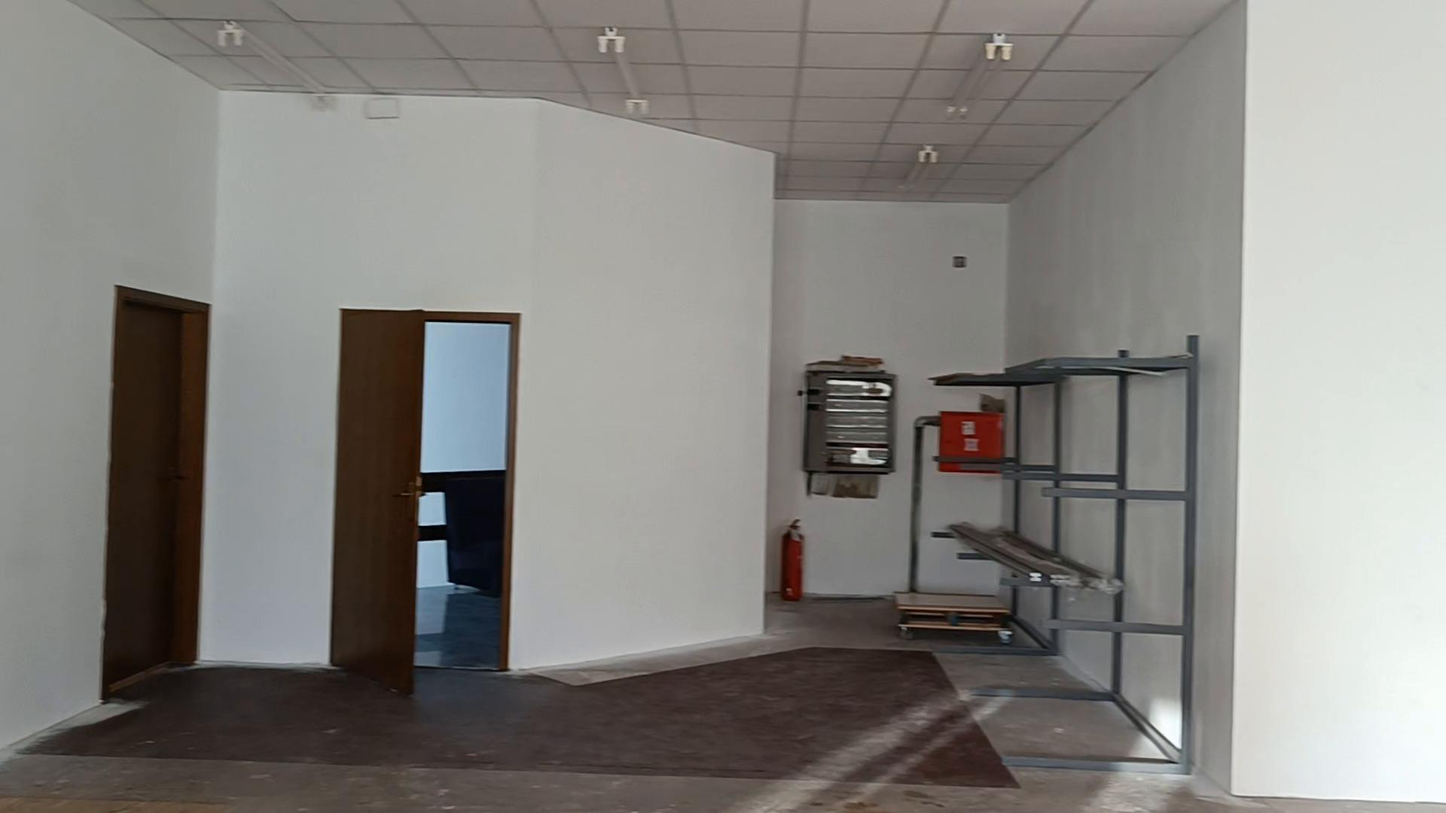ceiling: (71, 0, 1235, 202)
floor: (0, 600, 1445, 812)
wall: (1, 0, 1443, 799)
